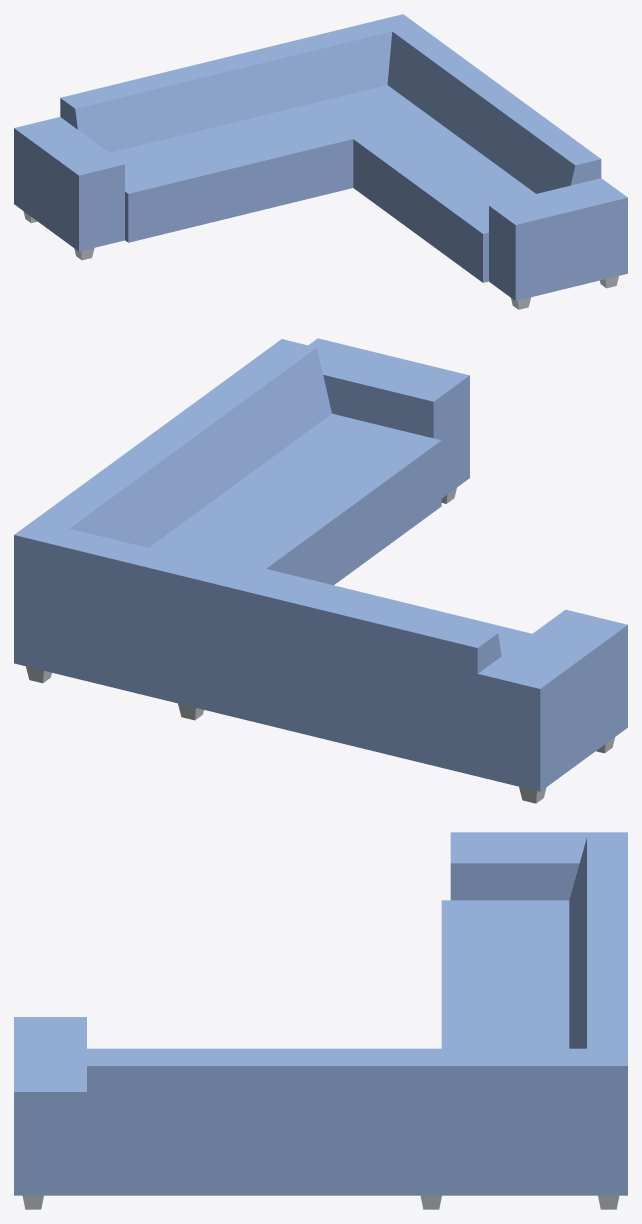
The model's file is loungeDesignSofaCorner-col.glb.
3 renders of one model, top to bottom at view 1: azimuth 30°, elevation 25°; view 2: azimuth 150°, elevation 25°; view 3: azimuth 270°, elevation 25°, orthographic. The views are drawn at different scales.
Parts seen in each view (by area): view 1: loungeDesignSofaCorner-col; view 2: loungeDesignSofaCorner-col; view 3: loungeDesignSofaCorner-col.
Boxes of the visible parts, x1,y1,x2,y2 form: loungeDesignSofaCorner-col: (14,14,627,309); loungeDesignSofaCorner-col: (14,338,627,803); loungeDesignSofaCorner-col: (14,832,627,1209).
Size of the model in its own units: 1.5 by 0.4 by 1.5.
